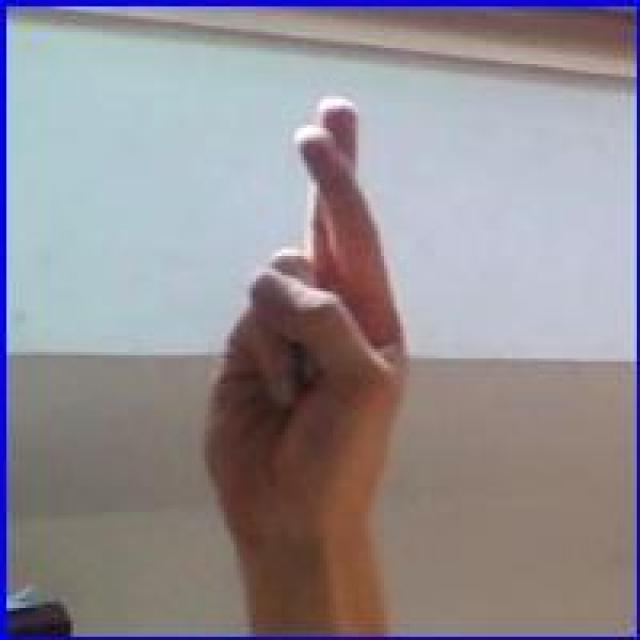R: (200, 90, 414, 538)
